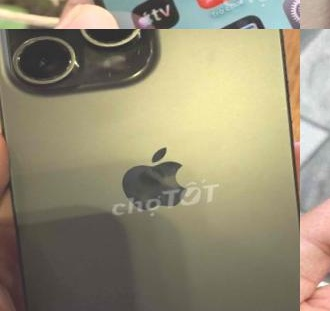scratch: (0, 29, 155, 94)
